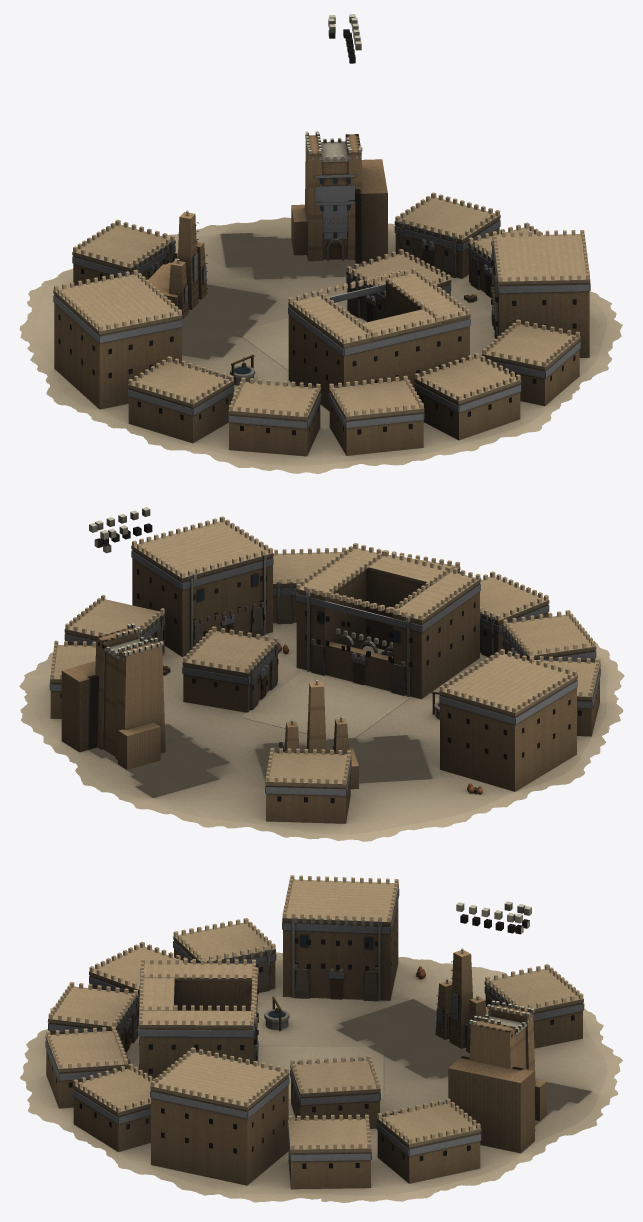
File: kingdoms-town-medium-b-maghreb.glb
3 renders of one model, top to bottom at view 1: azimuth 30°, elevation 25°; view 2: azimuth 150°, elevation 25°; view 3: azimuth 270°, elevation 25°, orthographic.
Parts seen in each view (by area): view 1: LOD0; view 2: LOD0; view 3: LOD0.
Boxes of the visible parts, x1,y1,x2,y2 form: LOD0: (19, 14, 622, 473); LOD0: (19, 507, 624, 841); LOD0: (20, 875, 622, 1202).
Size of what is drawn, in the model's own units: 5.96 by 2.4 by 5.93.
Materials: 3 (3 with a texture image).
